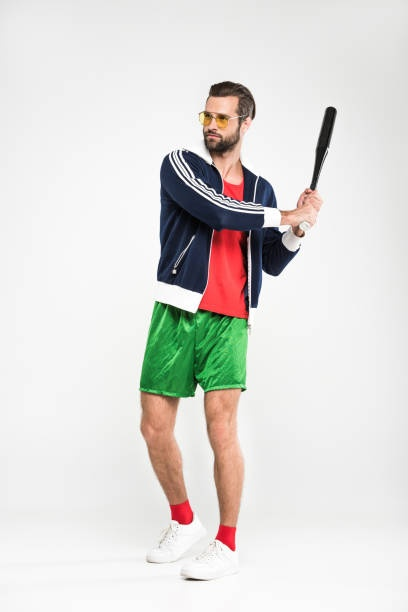bita: (299, 102, 344, 237)
